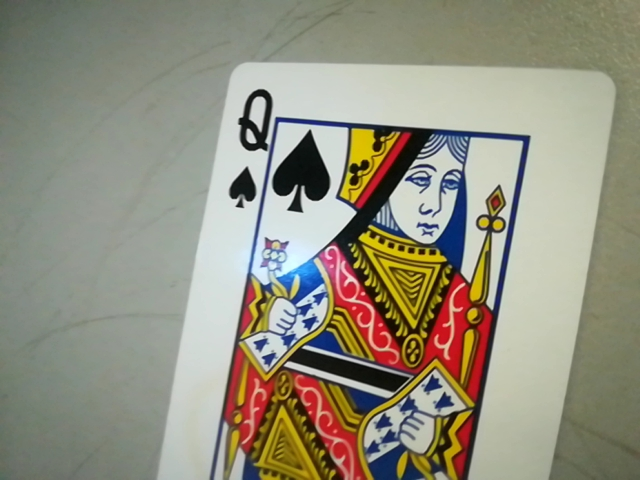ht q: (222, 82, 275, 213)
